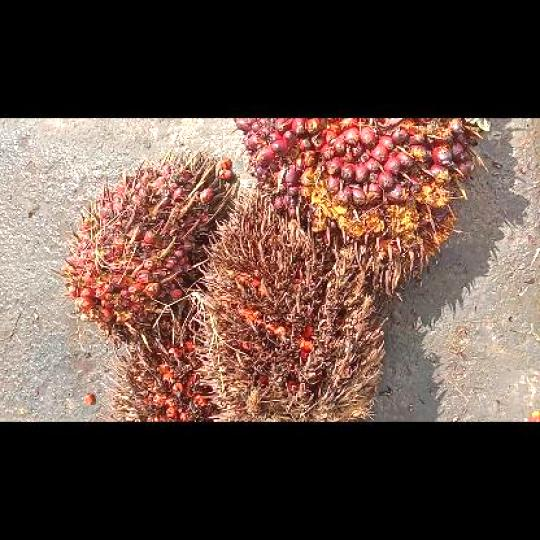masak: (232, 117, 487, 298), (60, 146, 231, 350)
terlalu masak: (190, 187, 386, 421), (96, 338, 218, 420)
